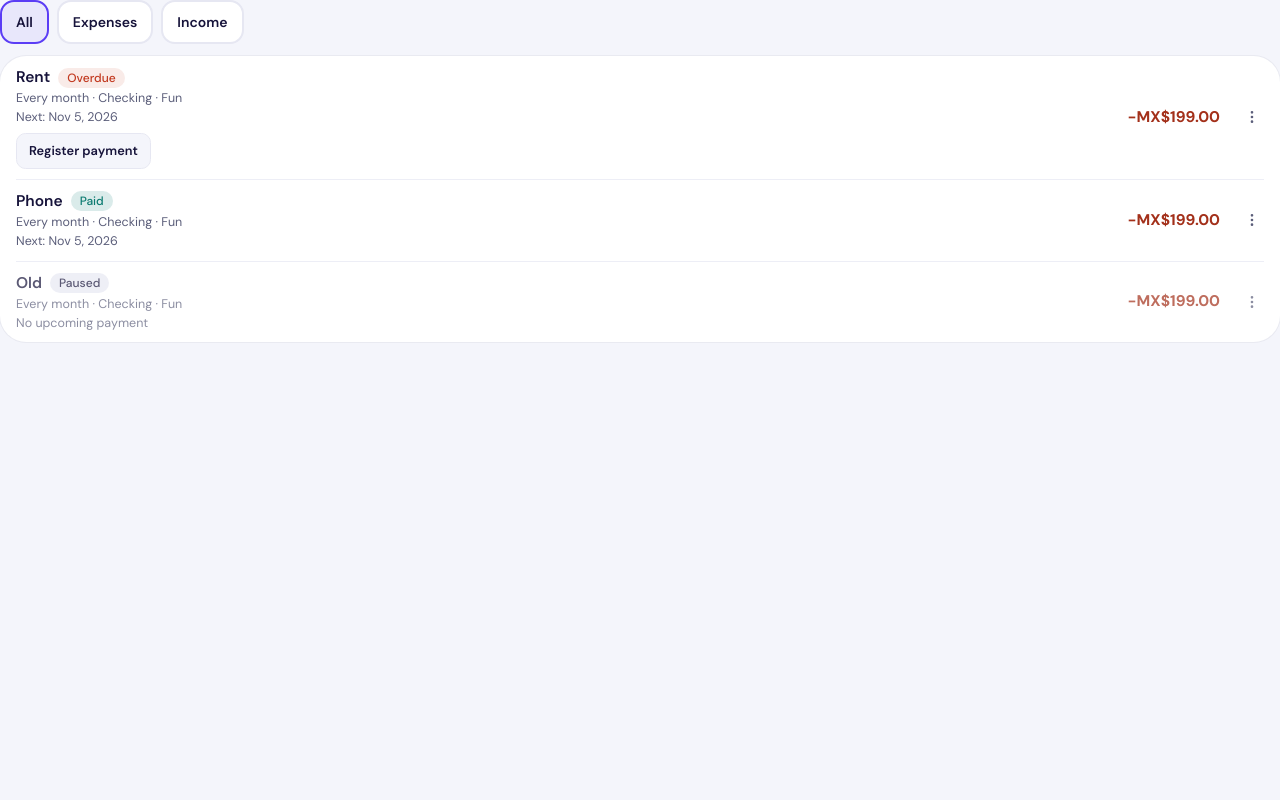
RecurringList › offers Register on unpaid active items and opens the confirm dialog
The image size is (1280, 800).
What coordinates should you click on to do the following:
click the button "Register payment"
I would click on:
 (83, 151)
Its box is [16,133,151,169].
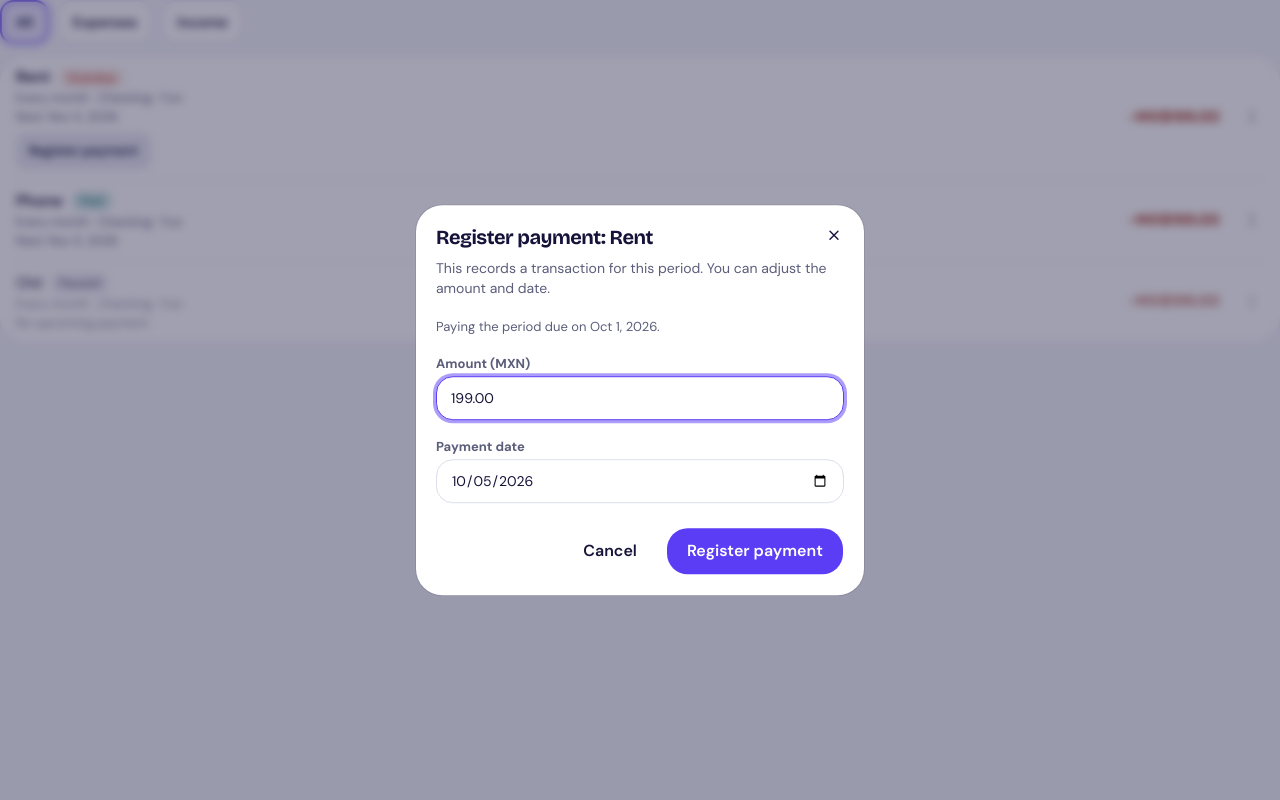
Now the dialog "Register payment: Rent" is shown, box [416,205,864,595]
Now the field labelled "Amount (MXN)" holds "199.00", box [436,376,844,420]
